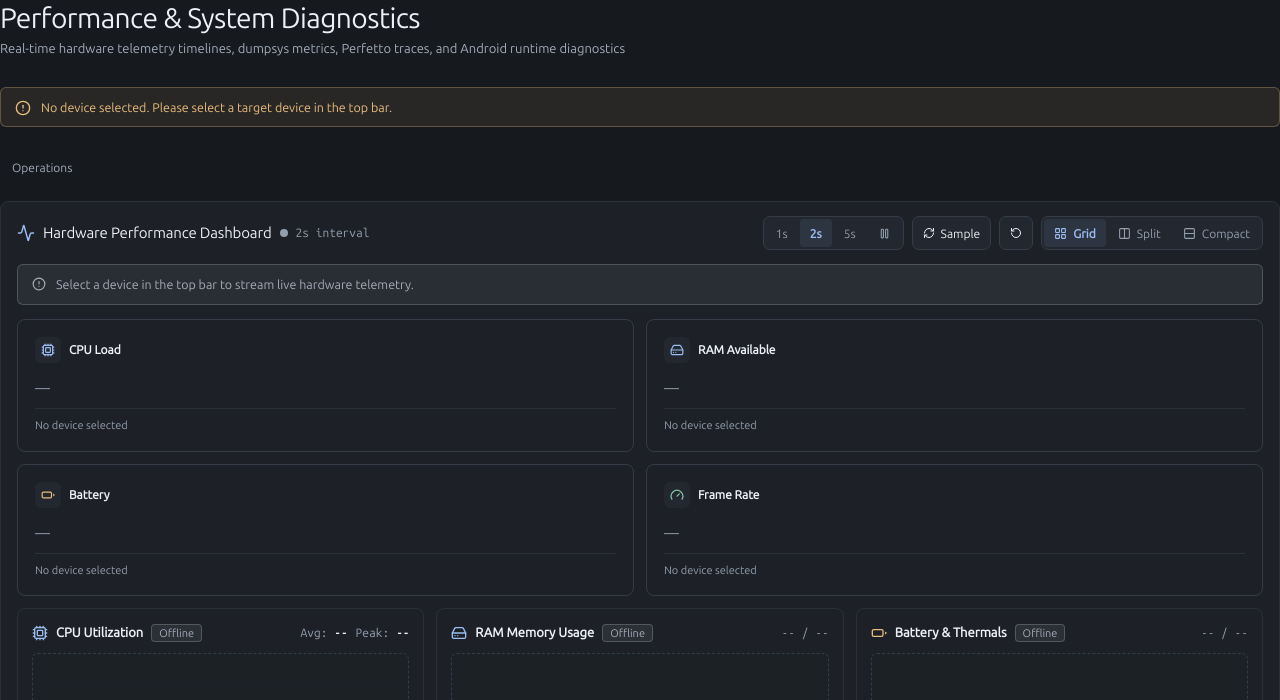
Test: Performance Dashboard, Multi-Graph Telemetry & Theme Selection › switches between Grid, Split (Hero), and Compact layout modes
Switch to Split mode
Click the button with test id "layout-split-btn". click: coordinates (1139, 233)
box: [1108, 219, 1171, 247]
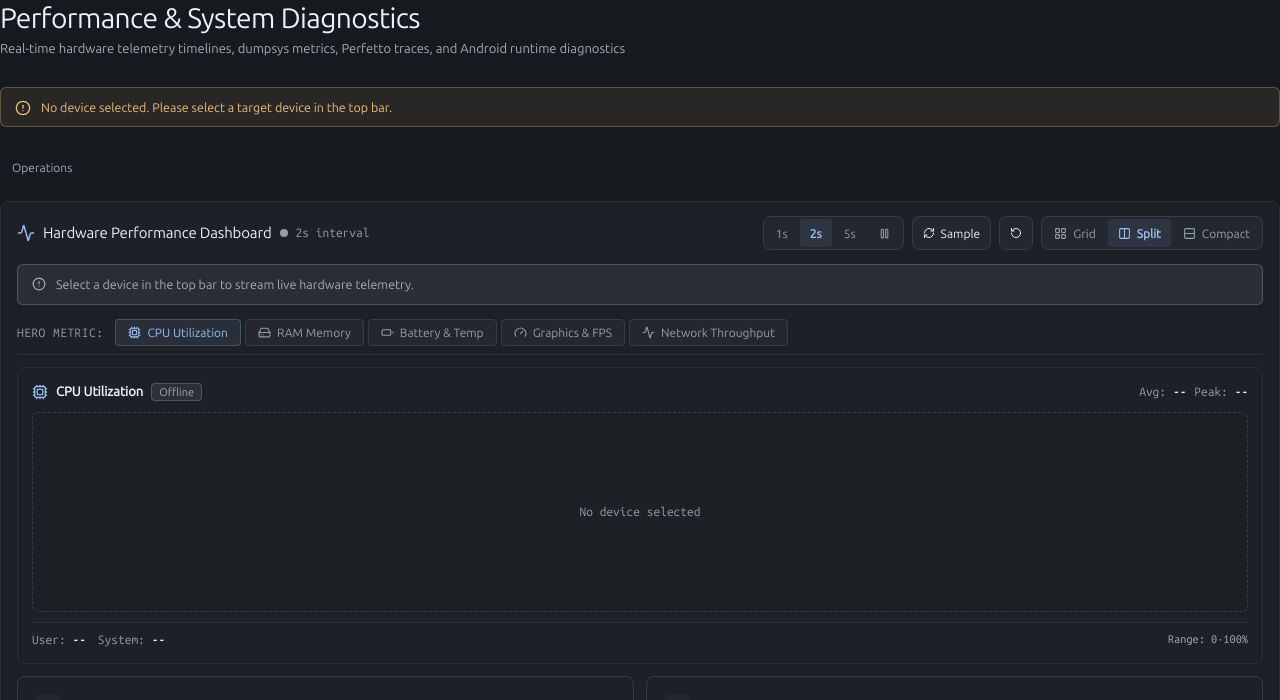
Expected: the text "Hero Metric:" is shown, [17, 324, 103, 342]
Change hero metric to RAM Memory
Click the button "RAM Memory". click: coordinates (304, 333)
box: [245, 319, 364, 346]
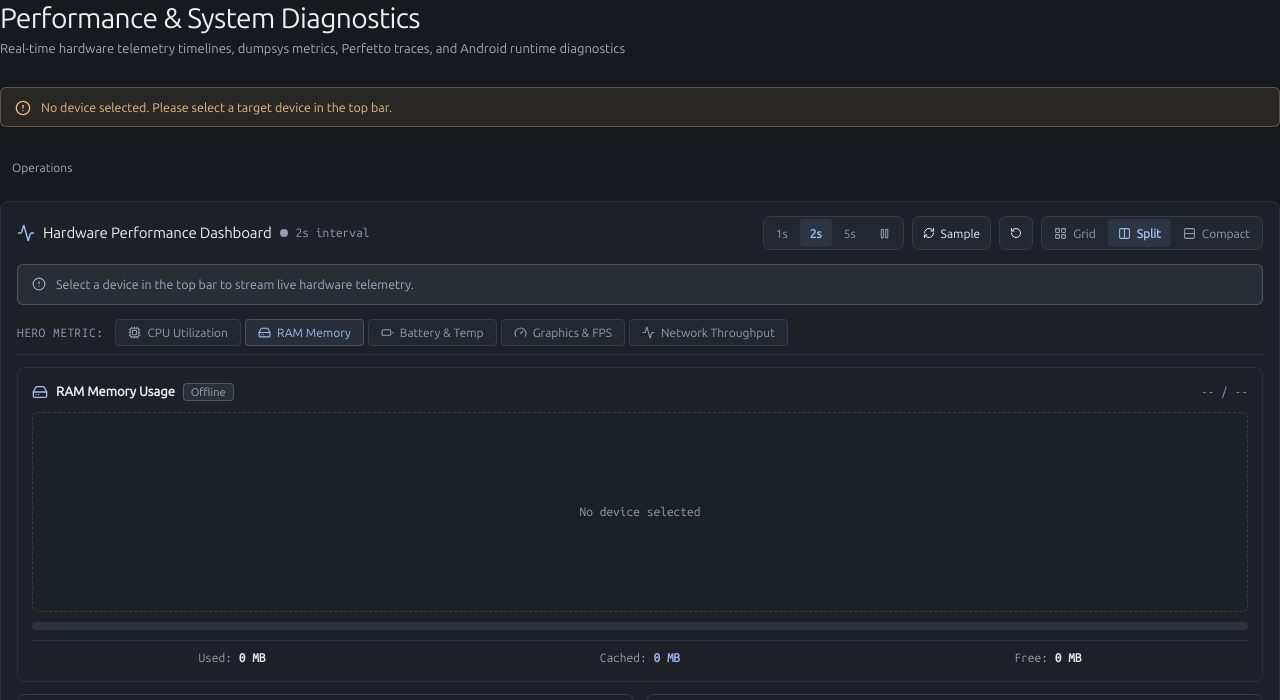
Switch to Compact mode
Click the button with test id "layout-compact-btn". click: coordinates (1216, 233)
box: [1173, 219, 1260, 247]
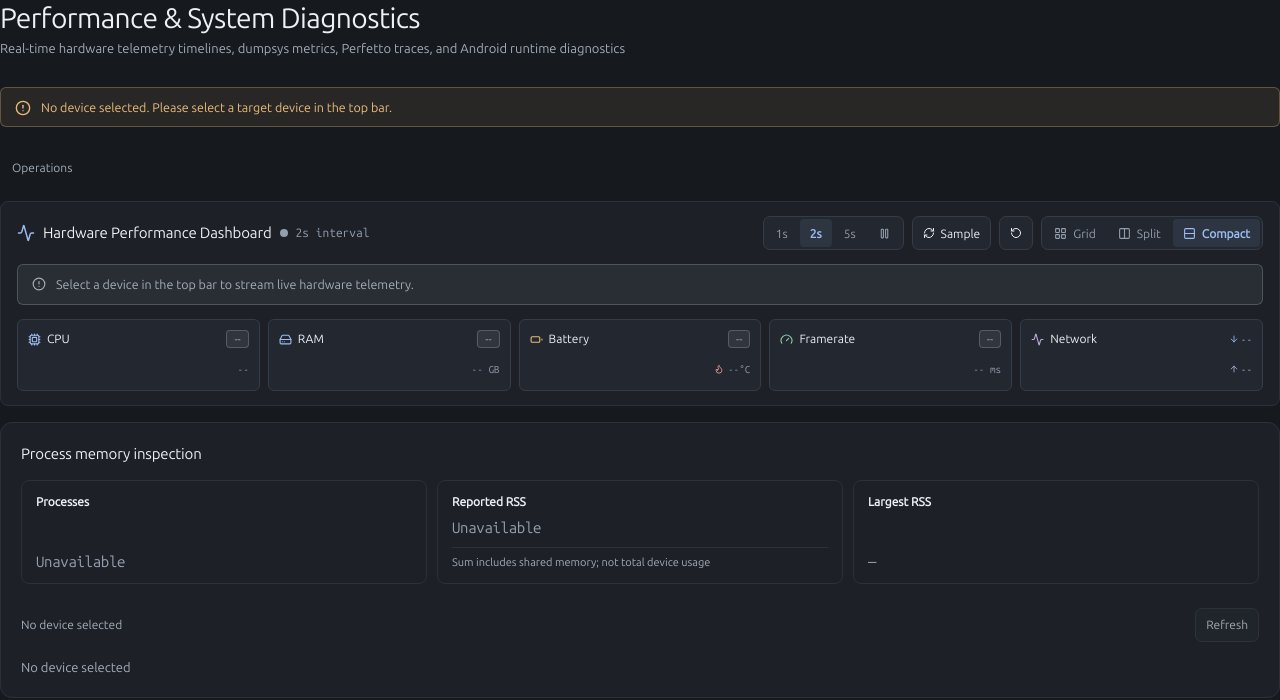
Expected: the element with test id "dashboard-view-compact" is shown, [17, 319, 1263, 391]
Expected: the text "Framerate" is shown, [799, 330, 855, 348]
Switch back to Grid mode
Click the button with test id "layout-grid-btn". click: coordinates (1075, 233)
box: [1044, 219, 1106, 247]
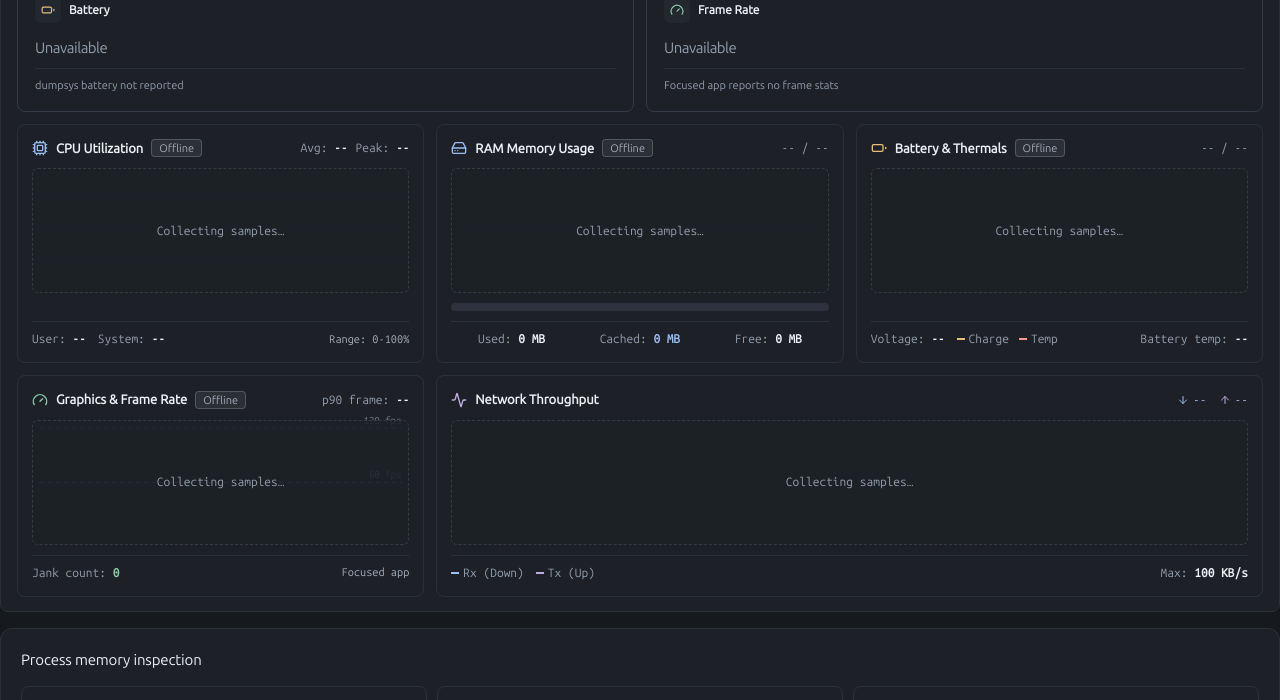
Expected: the element with test id "dashboard-view-grid" is shown
